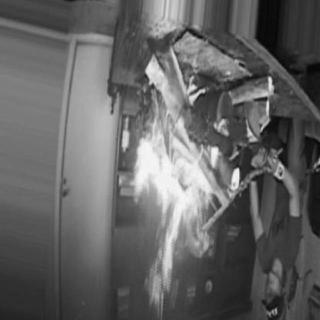Fire: (133, 100, 219, 316)
